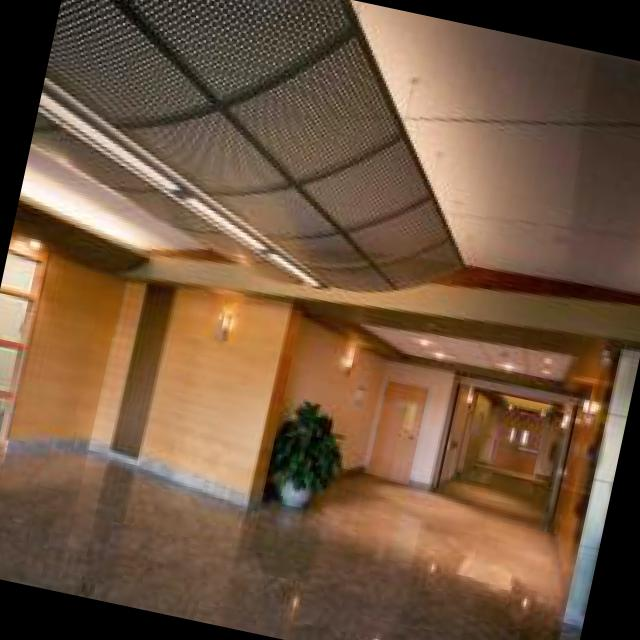ceiling beam: (15, 0, 640, 415)
door bars: (364, 377, 424, 481)
floor -X: (0, 442, 542, 640)
lamp crop: (338, 345, 352, 371), (217, 309, 229, 338), (414, 334, 428, 343), (431, 348, 446, 355), (582, 396, 587, 417), (497, 360, 510, 367), (559, 415, 568, 425)
lamps: (41, 90, 320, 284)
plant -x: (268, 395, 343, 492)
plant pot occlued: (277, 472, 314, 505)
wall clock: (84, 278, 289, 508), (529, 349, 638, 640), (244, 298, 383, 508), (0, 230, 122, 449), (432, 372, 542, 490), (359, 357, 452, 489)
